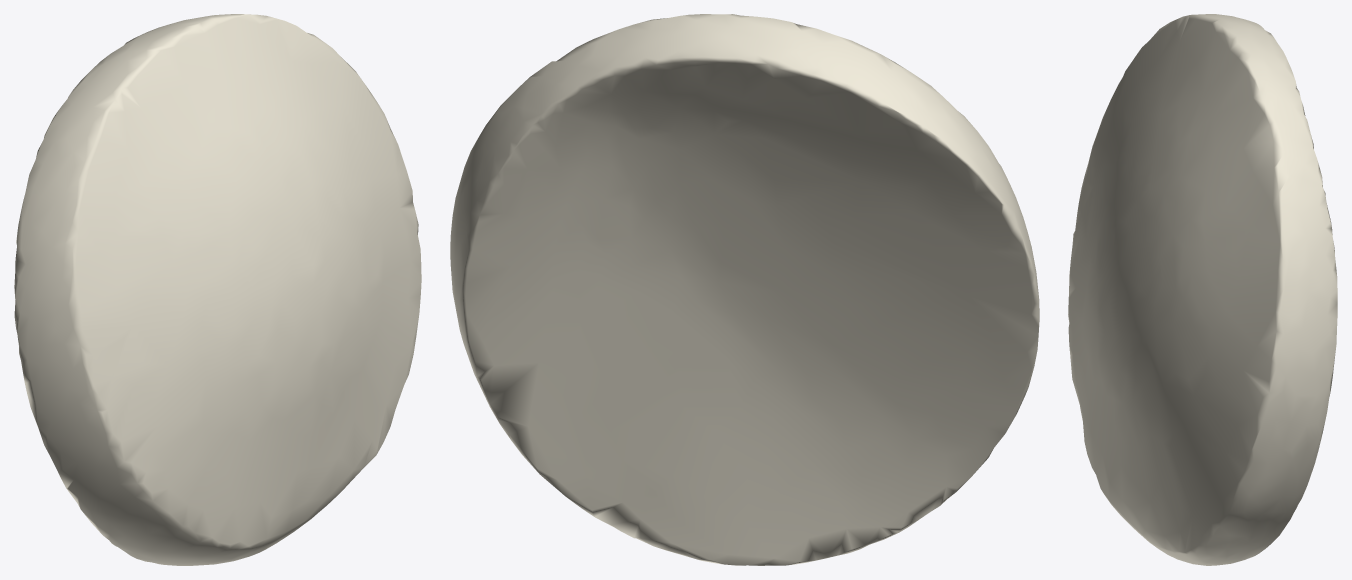
The model's file is fma54386_mm950.glb.
The picture shows the model from 3 angles, left to right: view 1: azimuth 30°, elevation 25°; view 2: azimuth 150°, elevation 25°; view 3: azimuth 270°, elevation 25°; orthographic projection. The views are drawn at different scales.
Visible parts, largest first — view 1: FMA54386_MM950; view 2: FMA54386_MM950; view 3: FMA54386_MM950.
Part boxes in pixels (x1,y1,x2,y2): FMA54386_MM950: (14,14,421,565); FMA54386_MM950: (450,14,1039,565); FMA54386_MM950: (1068,14,1337,565).
Bounding box in the file's own units: 0.0226 × 0.0239 × 0.0117.
